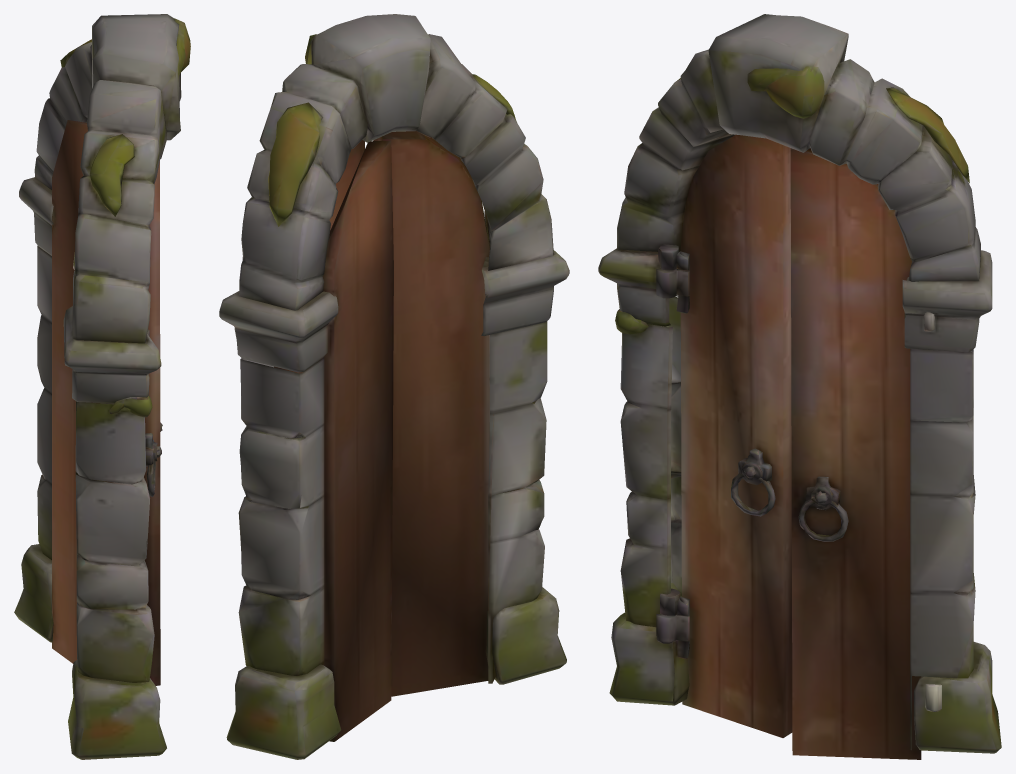
Rendered from dungeon_door_arch.glb.
3 renders of one model, left to right at view 1: azimuth 30°, elevation 25°; view 2: azimuth 150°, elevation 25°; view 3: azimuth 270°, elevation 25°, orthographic. The views are drawn at different scales.
Visible parts, largest first — view 1: tripo_node_81082d3e-b1df-4bac-b9a2-1854cb33f9d0; view 2: tripo_node_81082d3e-b1df-4bac-b9a2-1854cb33f9d0; view 3: tripo_node_81082d3e-b1df-4bac-b9a2-1854cb33f9d0.
Boxes of the visible parts, bbox=[...] form: tripo_node_81082d3e-b1df-4bac-b9a2-1854cb33f9d0: bbox=[14, 14, 190, 759]; tripo_node_81082d3e-b1df-4bac-b9a2-1854cb33f9d0: bbox=[219, 14, 569, 759]; tripo_node_81082d3e-b1df-4bac-b9a2-1854cb33f9d0: bbox=[598, 14, 1001, 759].
Bounding box in the file's own units: 1.52 × 5 × 2.57.
Materials: 1 (1 with a texture image).
